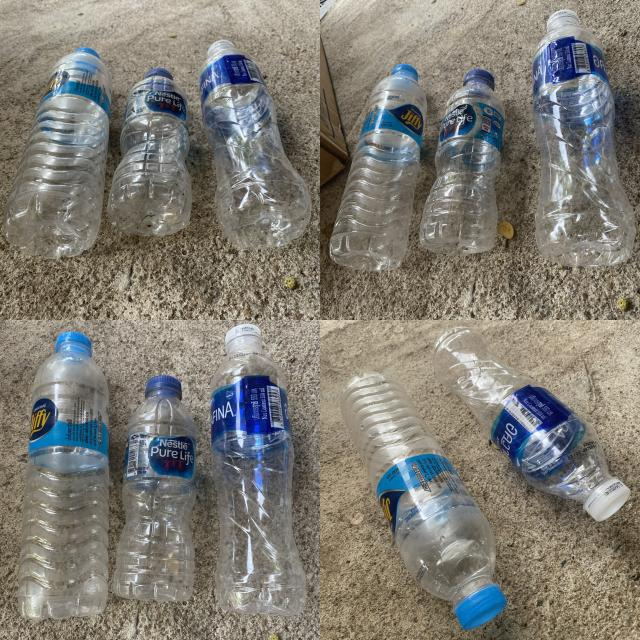plastik: (341, 372, 506, 630), (431, 326, 630, 521), (210, 325, 305, 614), (532, 10, 636, 267), (18, 331, 109, 618), (199, 40, 310, 248), (4, 48, 112, 259), (330, 64, 428, 271), (114, 375, 196, 601), (419, 69, 505, 255), (108, 68, 191, 236)
